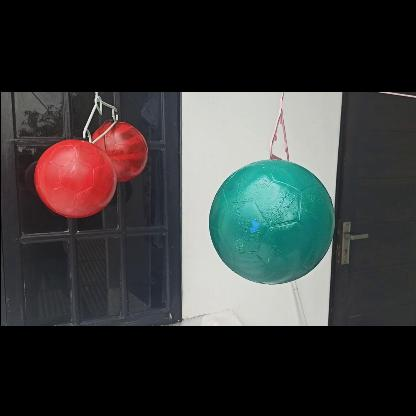red_ball: (33, 137, 113, 217)
